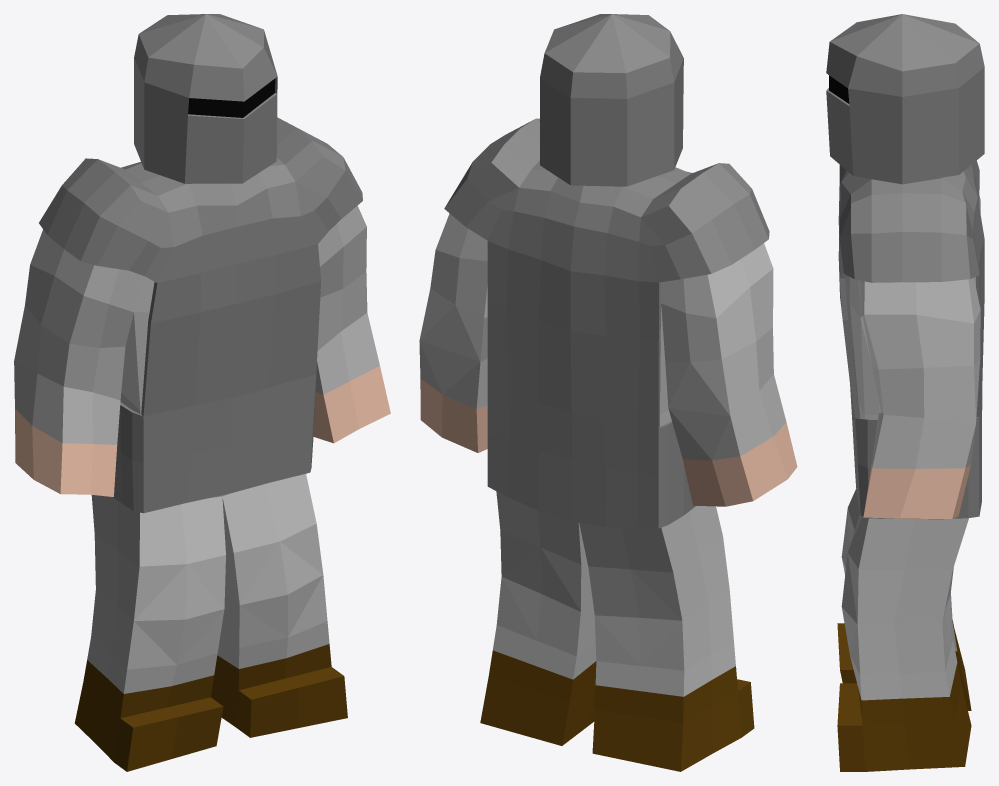
File: knight.fbx
3 renders of one model, left to right at view 1: azimuth 30°, elevation 25°; view 2: azimuth 150°, elevation 25°; view 3: azimuth 270°, elevation 25°, orthographic.
Parts seen in each view (by area): view 1: knight; view 2: knight; view 3: knight.
Part boxes in pixels (x1,y1,x2,y2): knight: (14,14,390,771); knight: (419,14,797,771); knight: (826,14,984,771).
Bounding box in the file's own units: 141 × 275 × 56.14.
